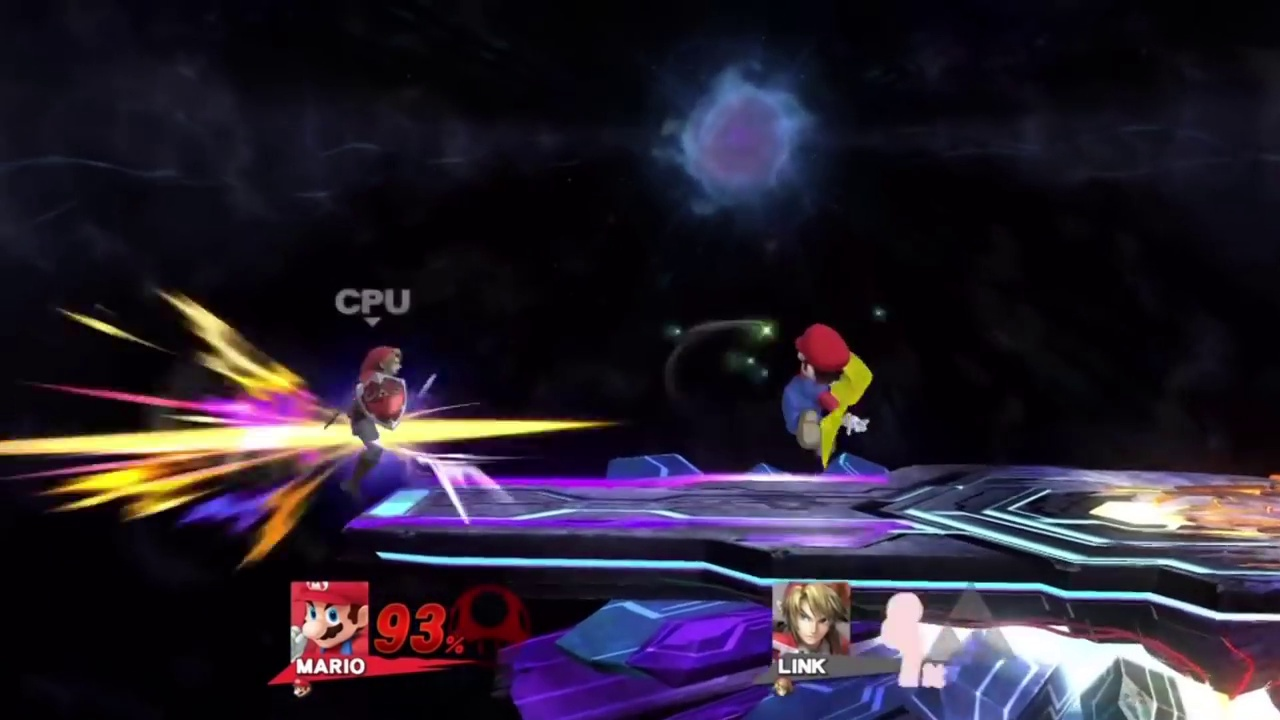Mario: (782, 326, 863, 448)
